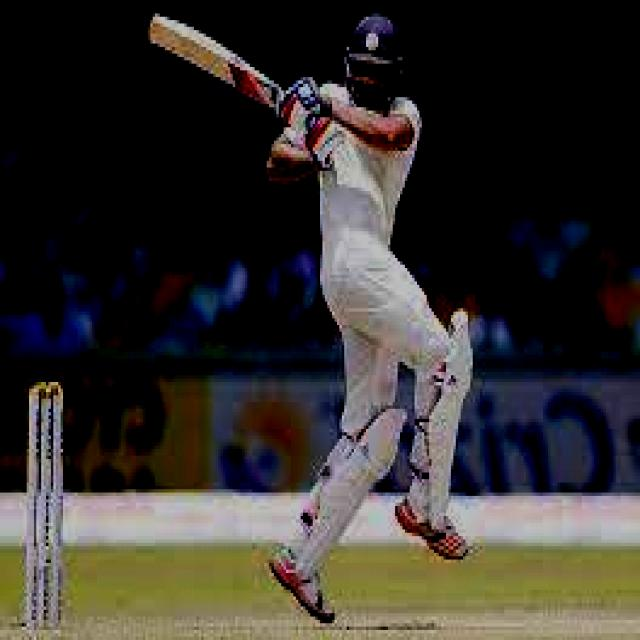toe: (141, 11, 172, 49)
